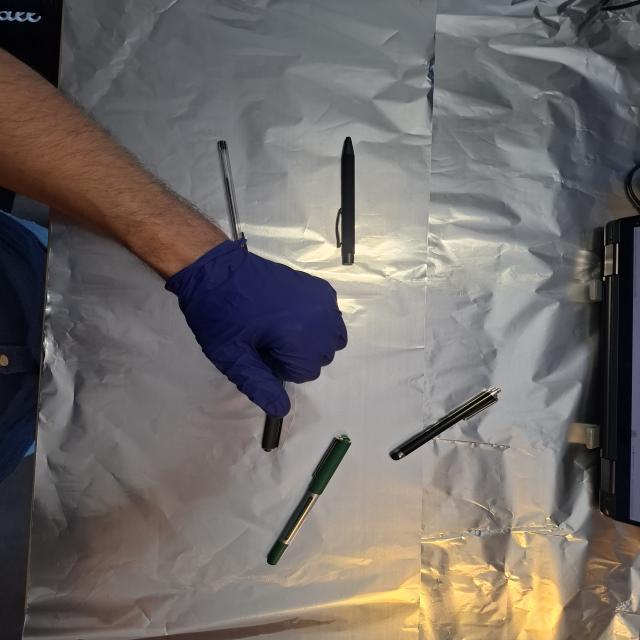glove_on: (162, 238, 351, 420)
